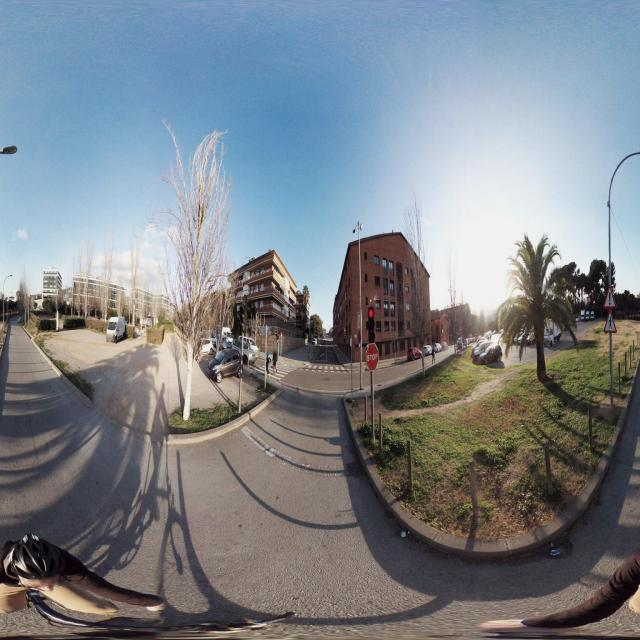car: (472, 340, 504, 366), (105, 317, 127, 343), (237, 337, 259, 362)
